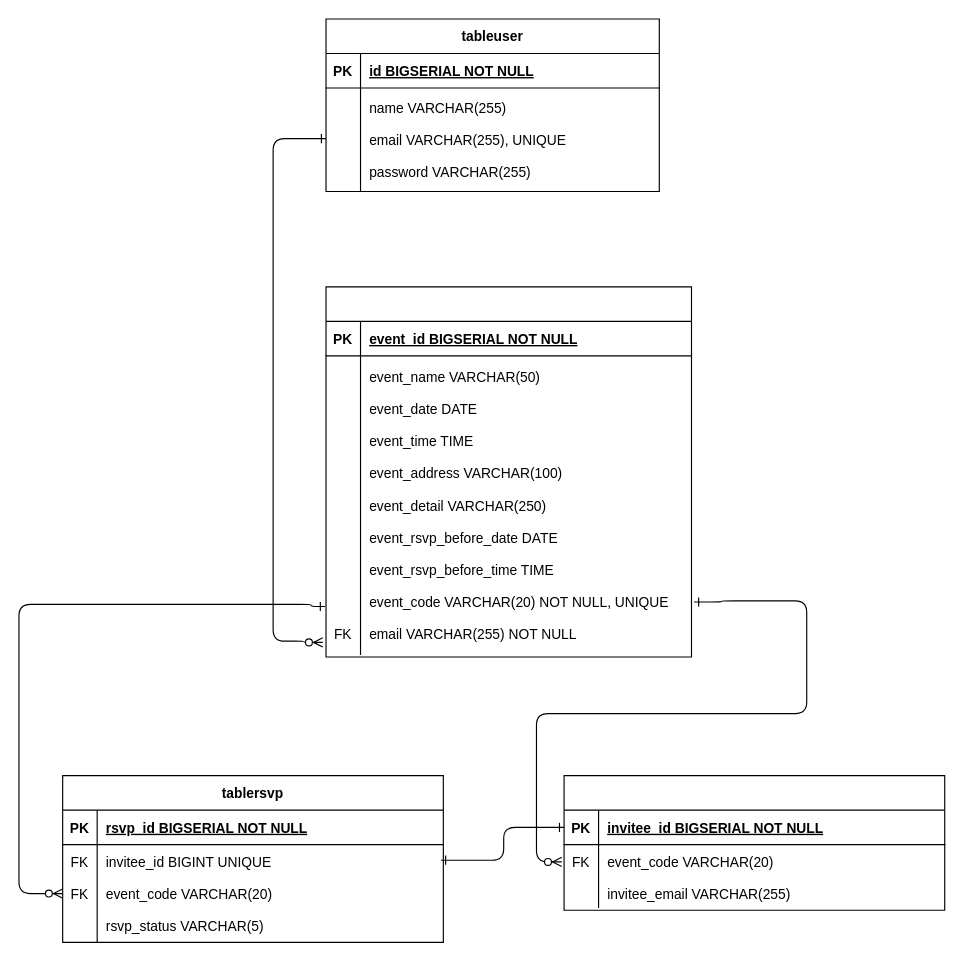
The diagram is 964 pixels wide and 961 high, and some of its shapes have lost their labels. The shapes that lost their labels are listed below. From the top down, each one's box as (x1, y1, x2, y2) in pixels, then its label:
(325, 286, 691, 657): tablecreateevent
(563, 775, 945, 910): tableinviteeemail
